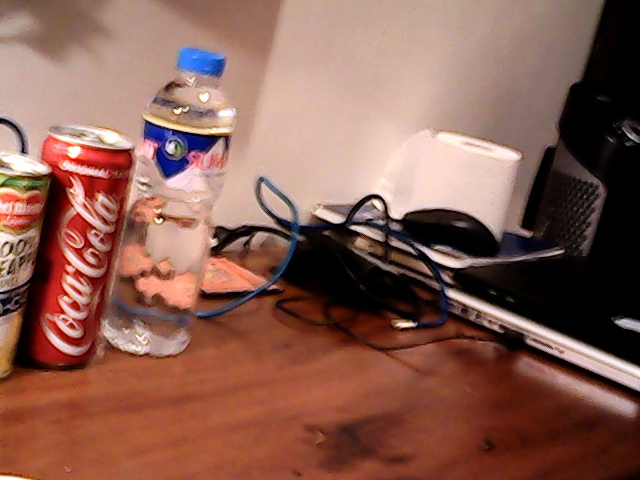Cola: (48, 119, 130, 369)
Pine Juice: (1, 149, 53, 369)
Summit Water: (128, 40, 236, 325)
